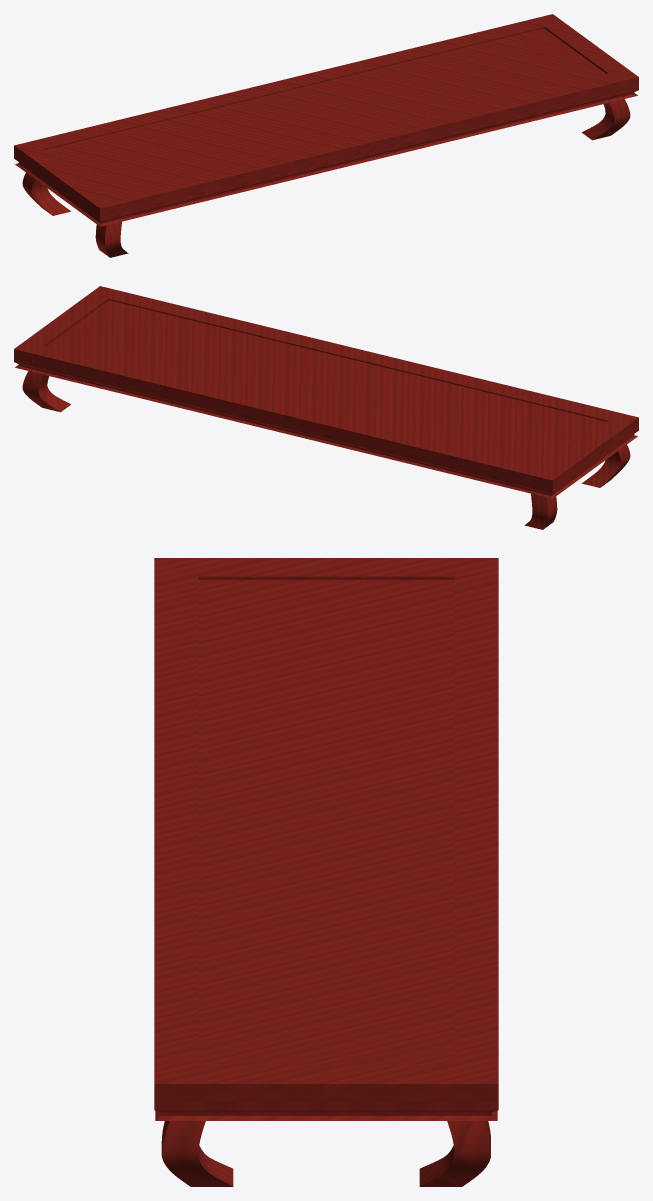
Rendered from jiaota-v1.glb.
3 views of the same model, one above another, from view 1: azimuth 30°, elevation 25°; view 2: azimuth 150°, elevation 25°; view 3: azimuth 270°, elevation 25° (orthographic). The views are drawn at different scales.
Parts seen in each view (by area): view 1: jiaota_ban, jiaota_tui; view 2: jiaota_ban, jiaota_tui; view 3: jiaota_ban, jiaota_tui.
Boxes of the visible parts, box(x1,y1,x2,y2) form: jiaota_ban: box(14, 14, 638, 226); jiaota_tui: box(22, 99, 630, 257); jiaota_ban: box(14, 286, 638, 498); jiaota_tui: box(22, 371, 630, 529); jiaota_ban: box(154, 558, 498, 1120); jiaota_tui: box(161, 1121, 490, 1186).
Bounding box in the file's own units: 1.3 × 0.14 × 0.36.
Materials: 2 (2 with a texture image).
